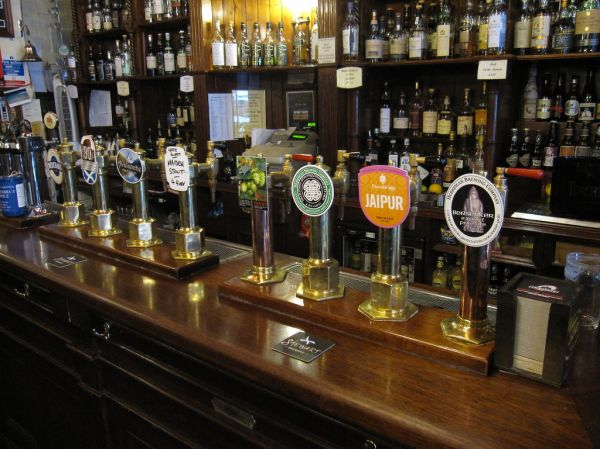unknown_bottle: (342, 1, 360, 63), (421, 88, 438, 137)
